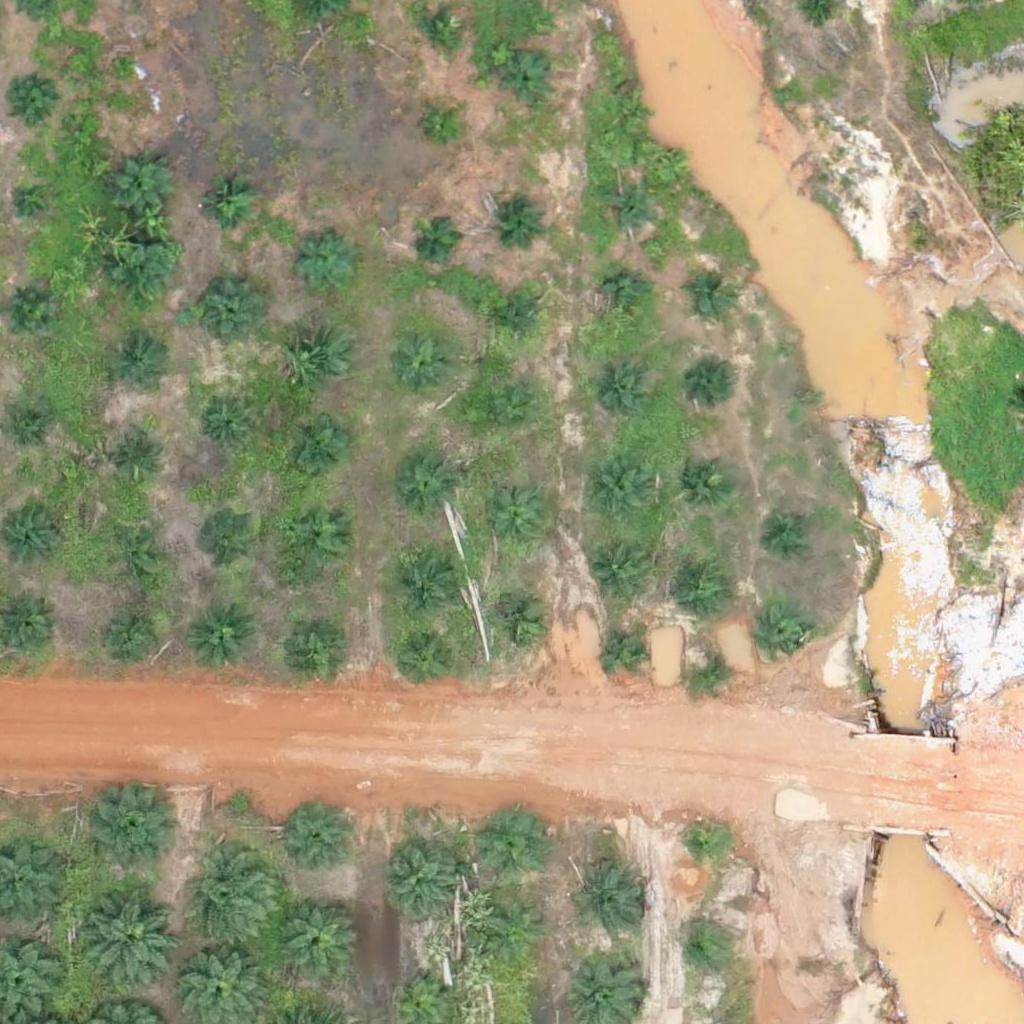Kelapa_Sawit: (182, 848, 282, 948), (77, 881, 177, 981), (91, 782, 179, 870), (379, 837, 466, 925), (274, 894, 361, 982), (569, 859, 644, 935), (279, 804, 354, 880), (473, 386, 536, 449), (588, 362, 651, 425), (196, 179, 259, 242), (200, 279, 263, 342), (187, 606, 250, 669), (586, 459, 649, 522), (283, 504, 346, 567), (281, 611, 344, 674), (197, 511, 260, 574), (393, 628, 456, 691), (482, 809, 545, 872), (673, 555, 736, 618), (587, 540, 650, 603), (110, 155, 173, 218), (284, 418, 346, 481), (395, 333, 457, 396), (294, 231, 356, 294), (397, 550, 459, 613), (109, 524, 171, 587), (394, 454, 456, 517), (488, 905, 550, 968), (483, 492, 545, 555), (488, 590, 550, 653), (673, 450, 735, 513), (112, 244, 174, 307), (290, 331, 352, 394), (104, 606, 166, 668), (600, 625, 650, 676), (686, 646, 736, 697), (7, 74, 57, 125), (412, 4, 462, 55), (7, 412, 57, 462), (109, 344, 159, 394), (117, 437, 167, 487), (200, 400, 250, 450), (3, 284, 53, 334), (689, 361, 739, 411), (496, 192, 546, 242), (414, 217, 464, 267), (603, 187, 653, 237), (502, 56, 552, 106), (599, 272, 649, 322), (685, 271, 735, 321), (757, 612, 807, 662), (767, 507, 817, 557), (679, 820, 729, 870), (675, 927, 725, 977), (493, 296, 543, 346), (7, 176, 57, 226), (611, 94, 649, 132), (423, 105, 461, 143)
